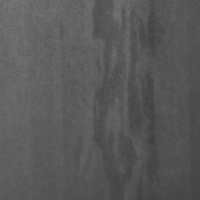inclusion: (90, 1, 162, 199)
